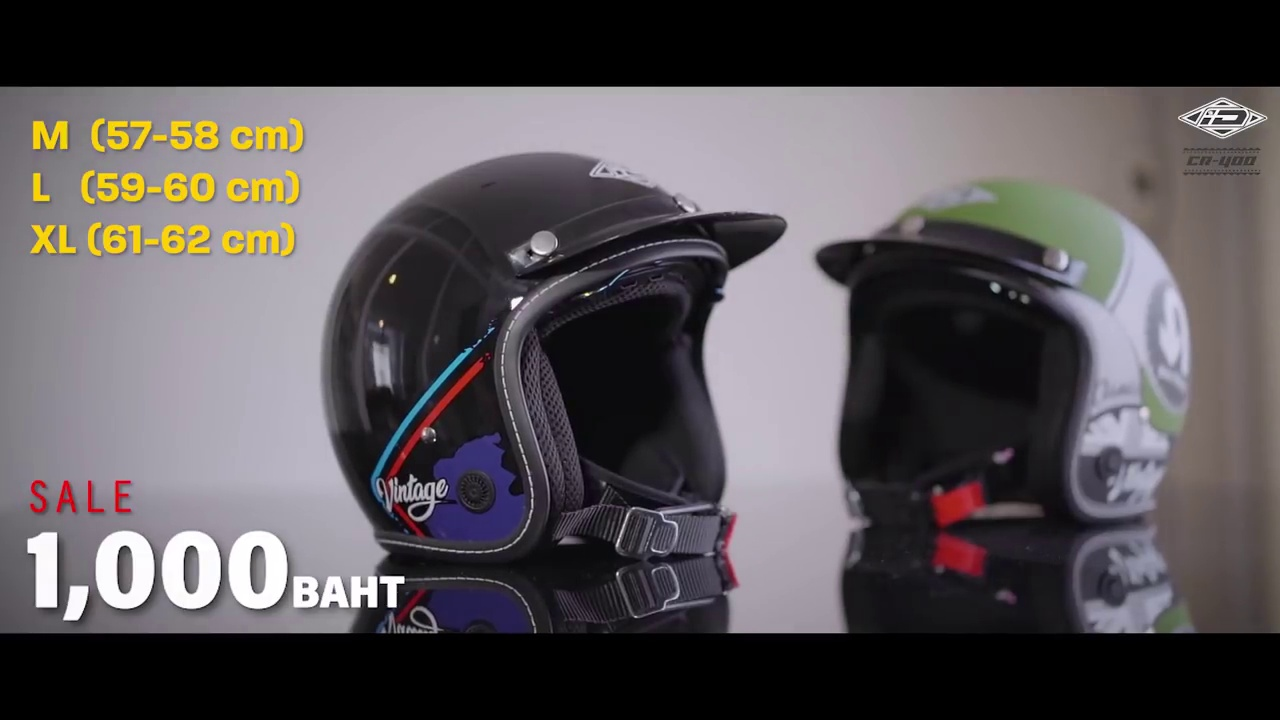helmet: (316, 147, 763, 563), (830, 176, 1188, 525)
